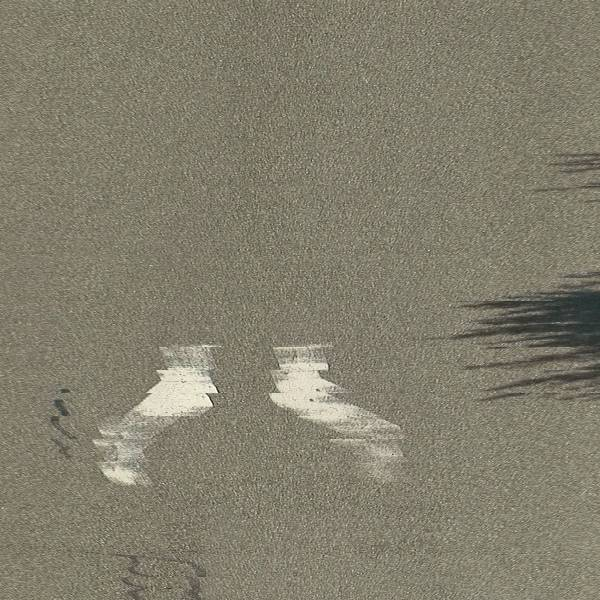road_damage: (112, 550, 209, 600)
